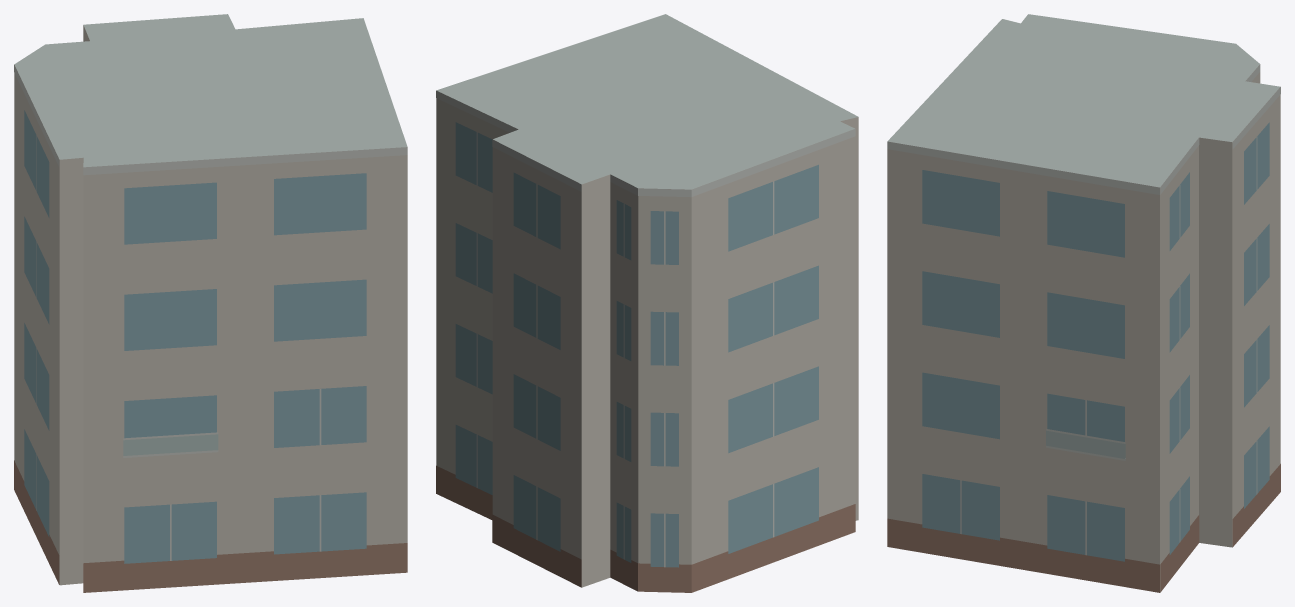
File: survey-upis-32486053.glb
The picture shows the model from 3 angles, left to right: view 1: azimuth 30°, elevation 25°; view 2: azimuth 150°, elevation 25°; view 3: azimuth 270°, elevation 25°; orthographic projection. The views are drawn at different scales.
Parts seen in each view (by area): view 1: survey-upis-32486053.tmp; view 2: survey-upis-32486053.tmp; view 3: survey-upis-32486053.tmp.
Part boxes in pixels (x1=…): survey-upis-32486053.tmp: x1=14, y1=14, x2=407, y2=592; survey-upis-32486053.tmp: x1=436, y1=14, x2=858, y2=592; survey-upis-32486053.tmp: x1=887, y1=14, x2=1280, y2=592.
Size of the model in its own units: 11.94 by 13 by 11.44.
